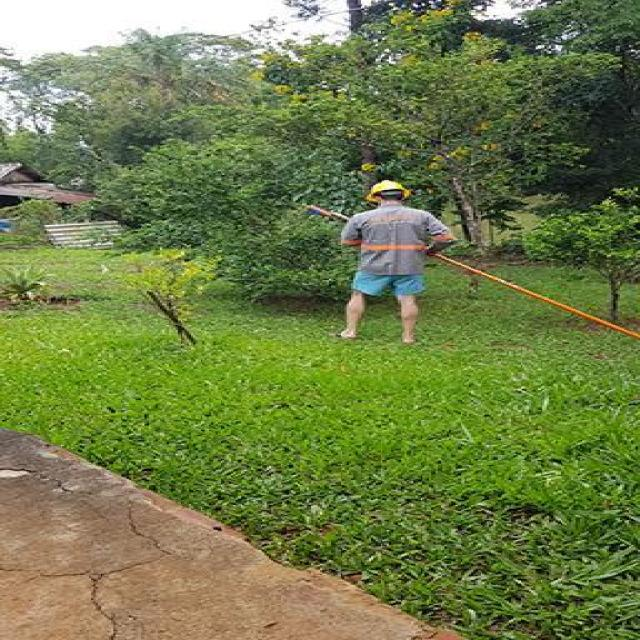helmet: (364, 179, 414, 206)
